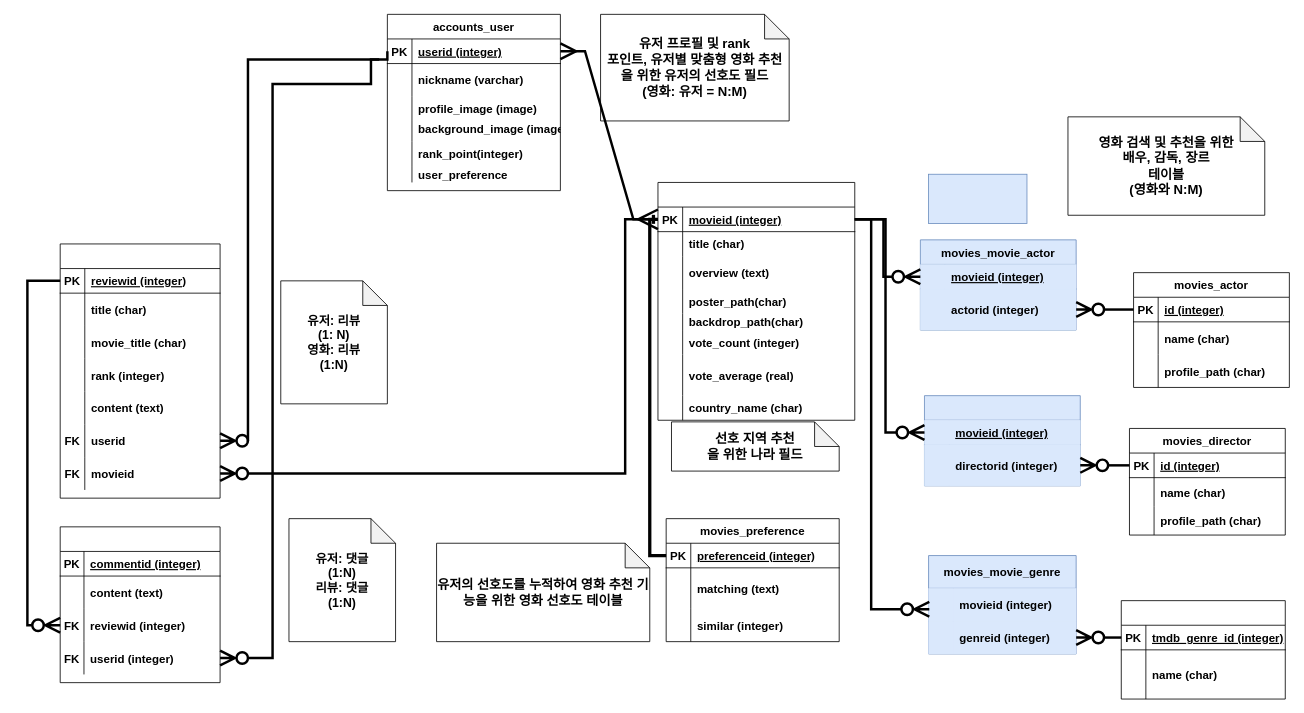
Image size: 1304x713. Some labels were removed from this diagram. Each missing label, with the box of its shape:
Many to Many relation: (928, 173, 1027, 223)
movies_comment: (59, 526, 220, 683)
movies_genre: (1120, 600, 1285, 699)
movies_movie: (657, 182, 855, 420)
movies_movie_director: (924, 395, 1080, 486)
movies_review: (59, 243, 220, 498)
